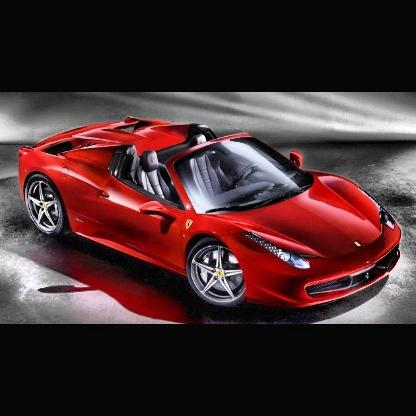Ferrari 458 Italia Convertible 2012: (21, 116, 402, 310)
